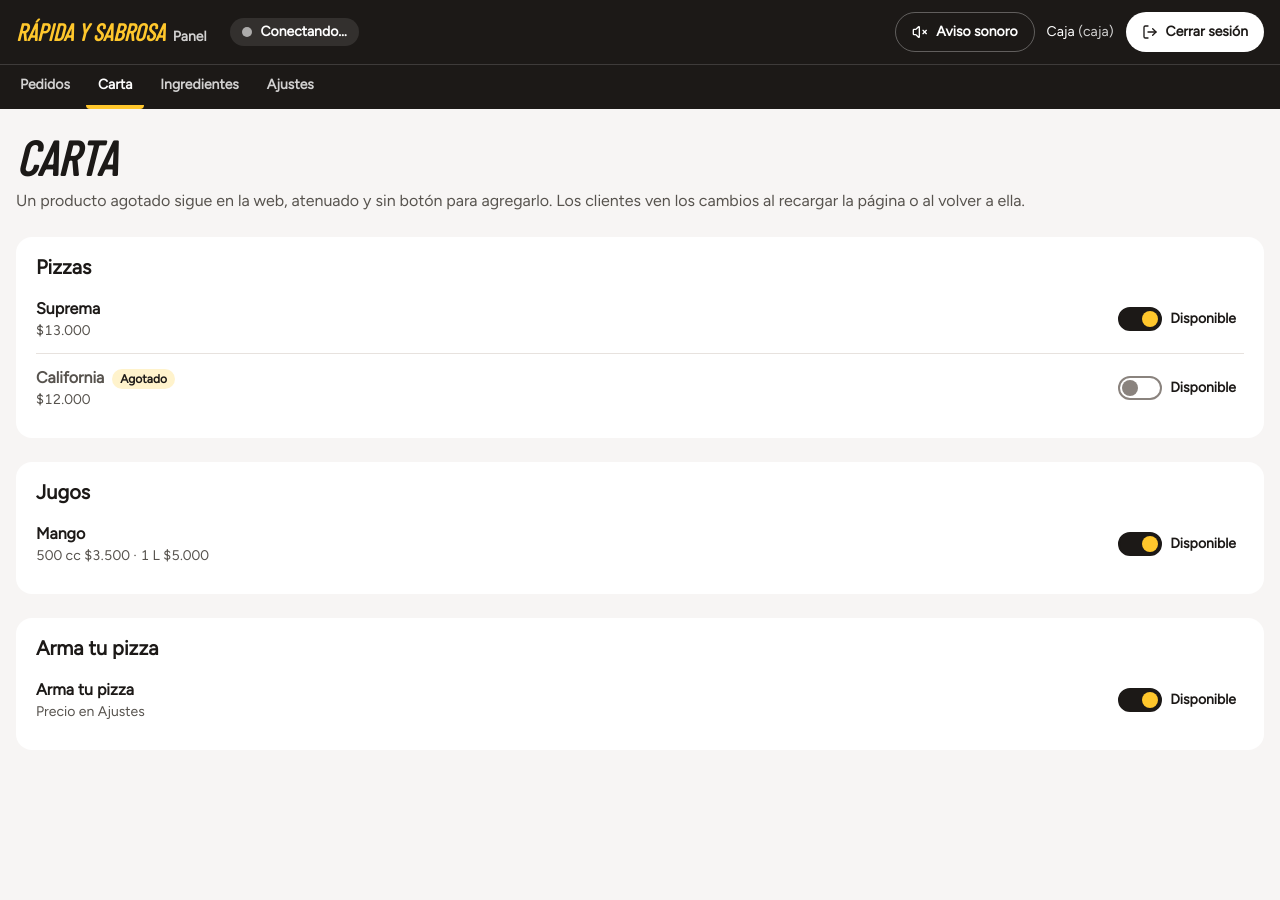
Test: /carta › si la sesión venció al guardar, vuelve al login
Expected: the heading "Carta" is shown, [16, 128, 116, 186]
Click the switch named "Suprema disponible".
click(1181, 319)  # box [1118, 299, 1244, 339]
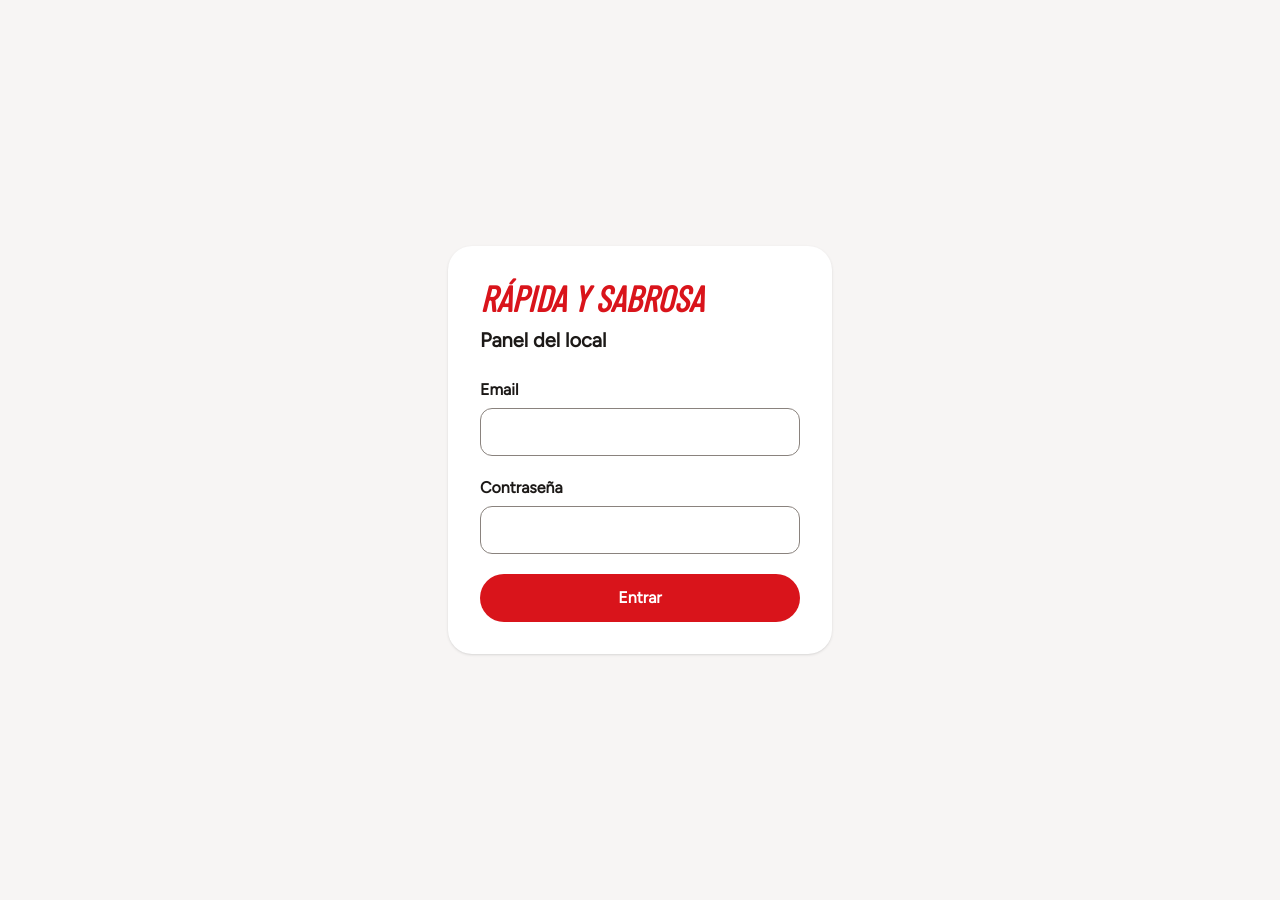
Now the heading "Panel del local" is shown, box [480, 328, 606, 352]
